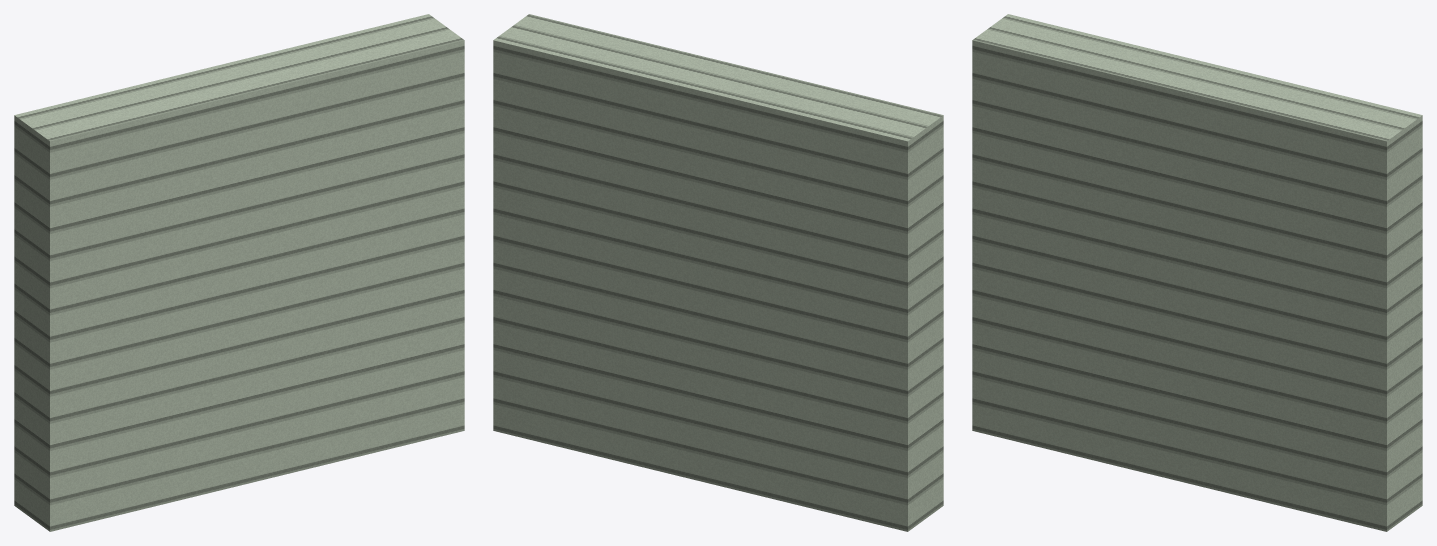
The model's file is po_box_wall.glb.
3 renders of one model, left to right at view 1: azimuth 30°, elevation 25°; view 2: azimuth 150°, elevation 25°; view 3: azimuth 330°, elevation 25°, orthographic.
Parts seen in each view (by area): view 1: po_box_wall-col; view 2: po_box_wall-col; view 3: po_box_wall-col.
Part boxes in pixels (left/top/right/bottom): po_box_wall-col: left=14, top=14, right=464, bottom=531; po_box_wall-col: left=493, top=14, right=943, bottom=531; po_box_wall-col: left=972, top=14, right=1422, bottom=531.
Size of the model in its own units: 2 by 1.8 by 0.3.
Materials: 1 (1 with a texture image).
